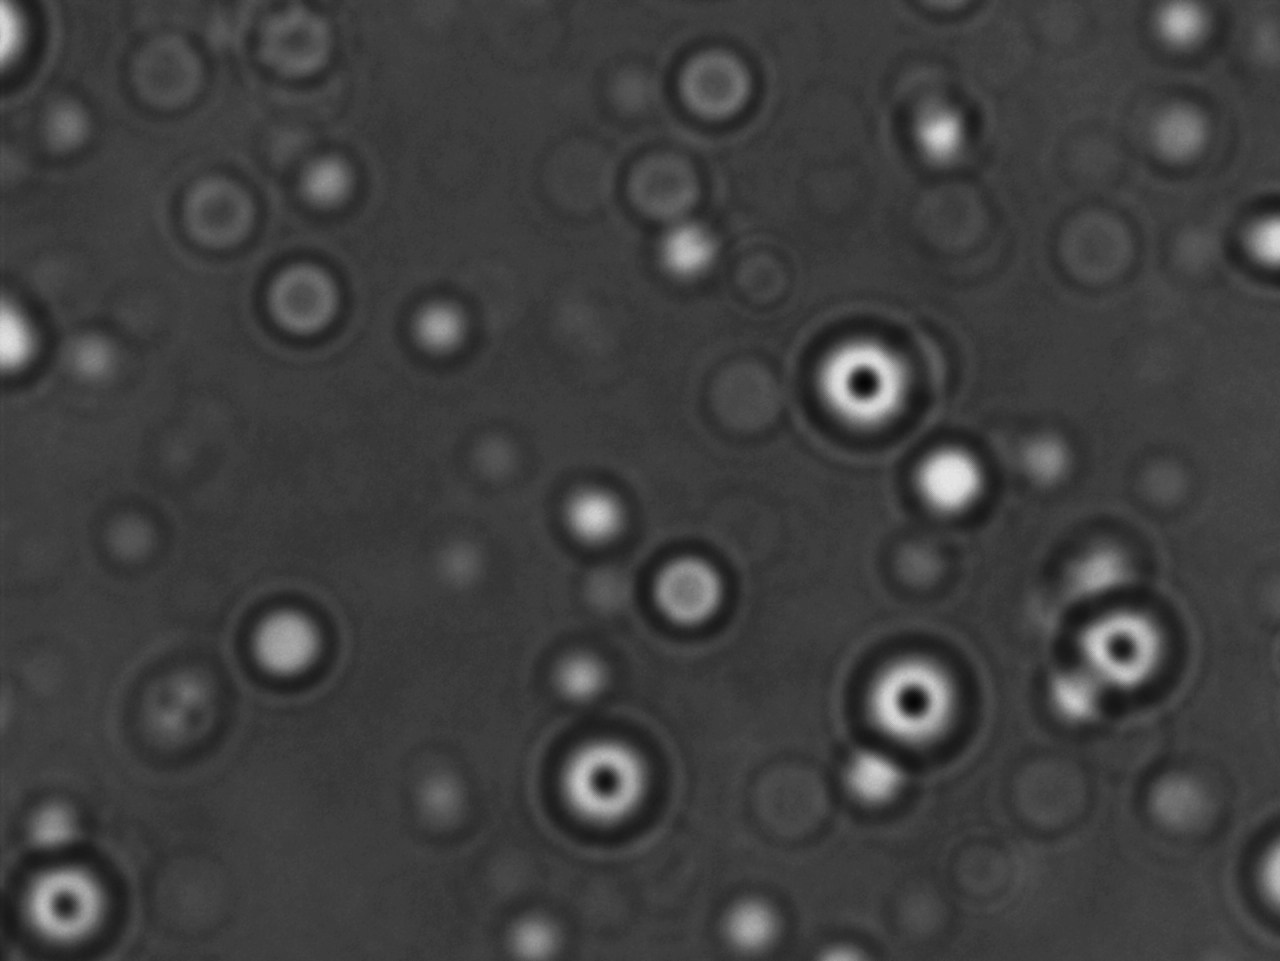depth:24: (841, 618, 997, 782), (526, 696, 683, 849), (1046, 588, 1203, 729), (789, 306, 936, 447)
